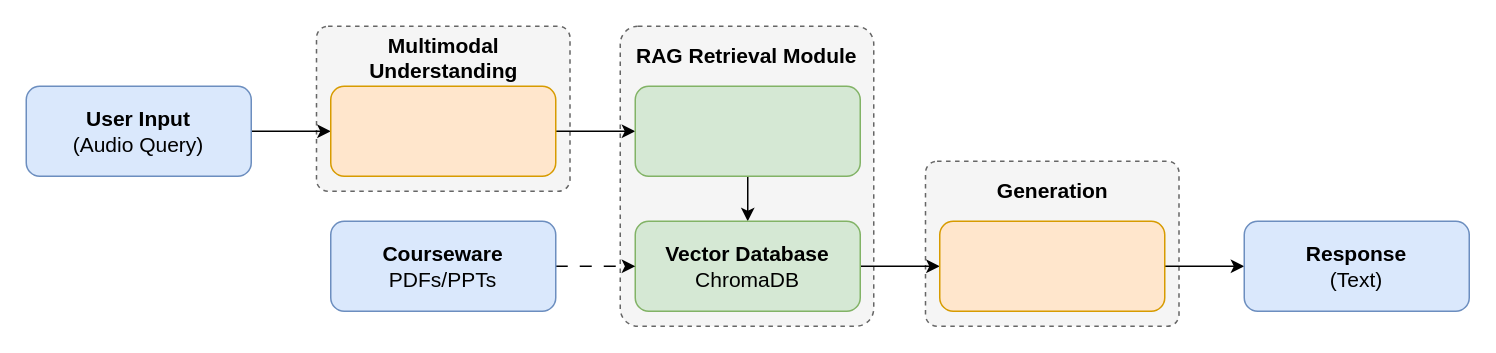
Some shapes in this 1496 by 353 pixel diagram are drawn without their labels. The centre of each missing label's shape, as x and y in pixels:
ASR Model Phi-4-MM: the point at 442,130
LLM Phi-4-MM: the point at 1051,265
Query Embedding Qwen3-Embedding: the point at 747,130
